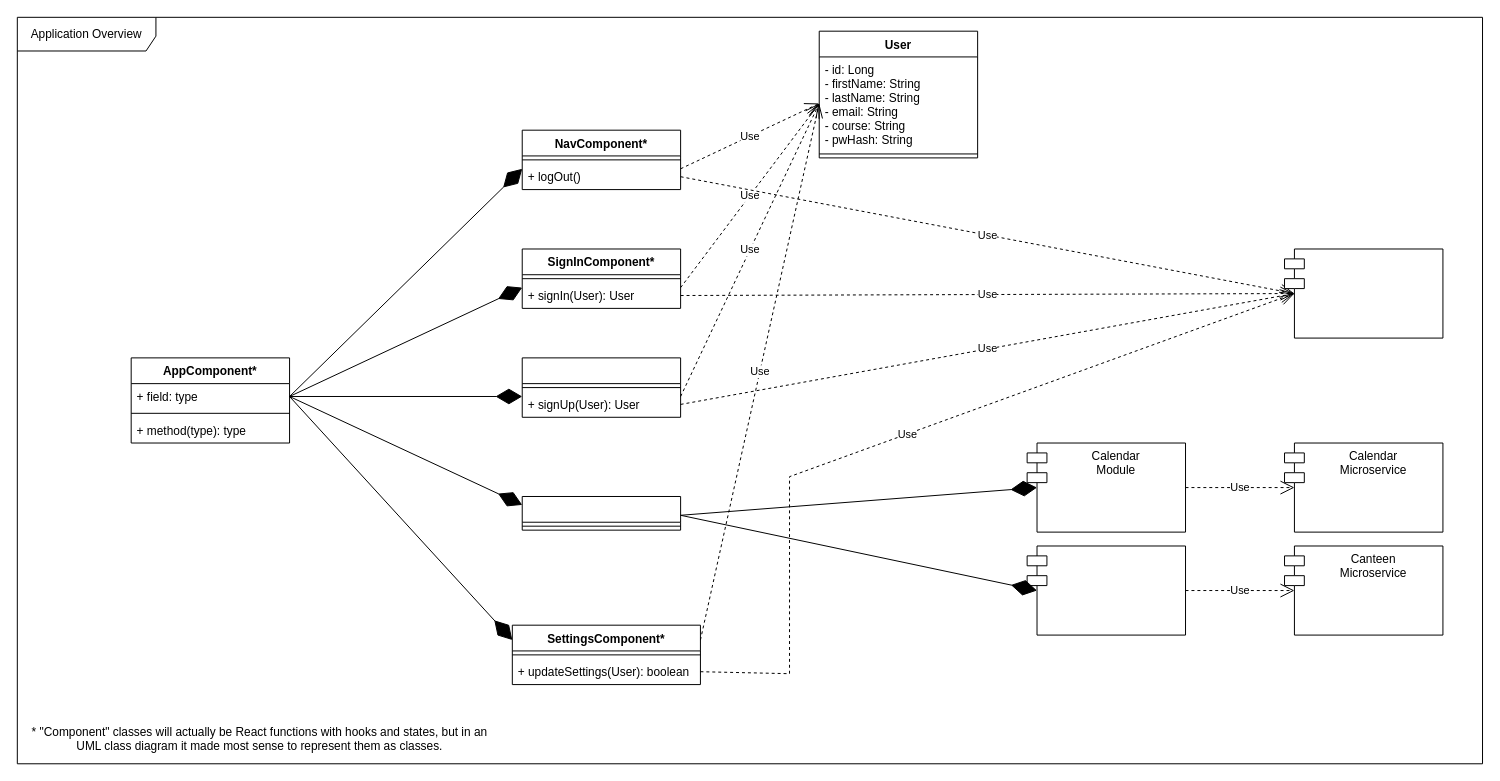
Image size: 1500x781. Some labels were removed from this diagram. Here are the shapes that lost their labels. From the top down, the box of each, then its label:
(1284, 248, 1443, 338): User Microservice
(521, 357, 681, 417): SignUpComponent*
(521, 495, 681, 530): HomeComponent*
(1026, 545, 1186, 635): Canteen Module
